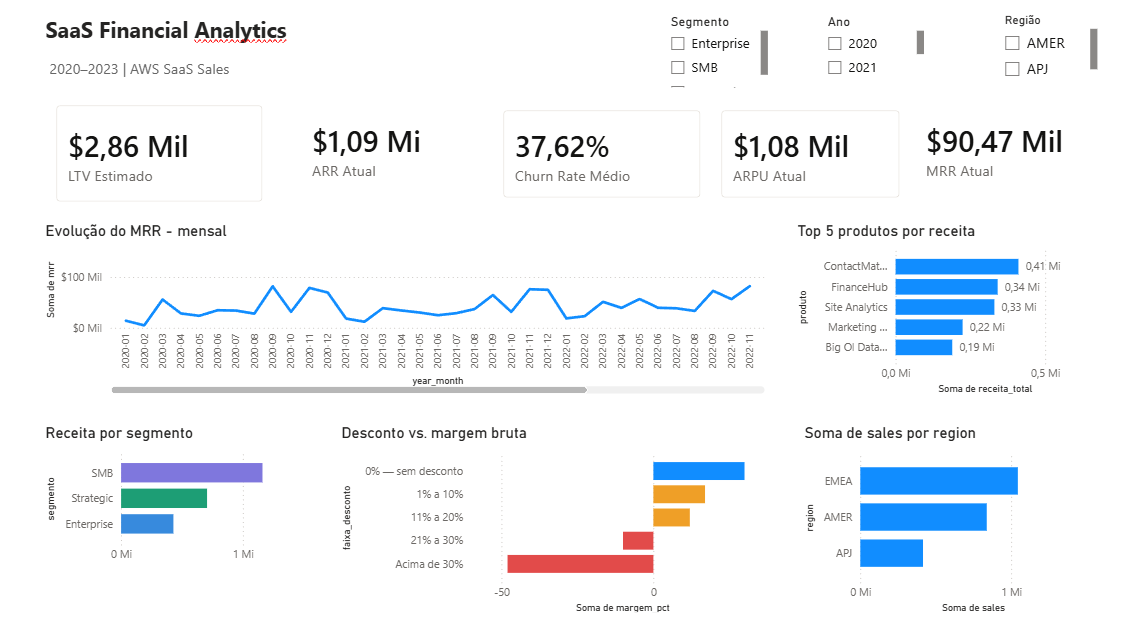

Layout of this report page (visuals, bound fields, positions):
{"tool":"powerbi","page":{"name":"Página 1","canvas":[1280,720],"ordinal":0},"visuals":[{"type":"slicer","fields":{"Values":["mrr_mensal.year_month.Variation.Hierarquia de datas.Ano"]},"box":[907.9,13.1,125.1,81.7],"z":0,"group":"g1"},{"type":"slicer","fields":{"Values":["sql_segmentos.segmento"]},"box":[733.3,13,126.5,91.1],"z":1000,"group":"g1"},{"type":"slicer","fields":{"Values":["vendas.region"]},"box":[1104.6,12.2,121,90.2],"z":2000,"group":"g1"},{"type":"cardVisual","fields":{"Data":["vw_receita_mensal.MRR Atual"]},"box":[1001.3,107.8,224.3,121.1],"z":3000,"group":"g2"},{"type":"lineChart","title":"Evolução do MRR - mensal","fields":{"Category":["mrr_mensal.year_month"],"Y":["Sum(mrr_mensal.mrr)"]},"box":[46.7,248.9,808.9,195.6],"z":3000},{"type":"cardVisual","fields":{"Data":["vw_receita_mensal.ARR Atual"]},"box":[318.9,107.8,224.3,121.1],"z":4000,"group":"g2"},{"type":"clusteredBarChart","title":"Receita por segmento","fields":{"Category":["sql_segmentos.segmento"],"Y":["Sum(sql_segmentos.receita_total)"]},"box":[46.7,473.3,308.9,163.3],"z":4000},{"type":"cardVisual","fields":{"Data":["vw_receita_mensal.ARPU Atual"]},"box":[785.2,107.8,232.5,131.1],"z":5000,"group":"g2"},{"type":"clusteredBarChart","title":"Top 5 produtos por receita","fields":{"Category":["sql_top_produtos.produto"],"Y":["Sum(sql_top_produtos.receita_total)"]},"box":[882.2,248.9,335.6,195.6],"z":5000},{"type":"clusteredBarChart","fields":{"Category":["vendas.region"],"Y":["Sum(vendas.sales)"]},"box":[890,473.3,335.6,214.4],"z":5000},{"type":"cardVisual","fields":{"Data":["vw_receita_mensal.Churn Rate Médio"]},"box":[543.1,107.8,253,131.1],"z":6000,"group":"g2"},{"type":"clusteredBarChart","title":"Desconto vs. margem bruta","fields":{"Category":["sql_descontos.faixa_desconto"],"Y":["Sum(sql_descontos.margem_pct)"]},"box":[375.6,473.3,495.6,214.4],"z":6000},{"type":"group","id":"g1","title":"Grupo 3","box":[733.3,12.2,492.2,91.1],"z":6002},{"type":"textbox","box":[46.7,13.3,365.6,96.7],"z":6003},{"type":"cardVisual","fields":{"Data":["vw_receita_mensal.LTV Estimado"]},"box":[46.7,102.2,264,141.1],"z":7000,"group":"g2"},{"type":"group","id":"g2","title":"Grupo 1","box":[46.7,102.2,1178.9,141.1],"z":7001}]}

Visuals, with their boxes in screenshot pixels (x1, y1, x2, y2), scaled from the page's 1280x720 canvas onto the 1140x642 screenshot:
slicer - mrr_mensal.year_month.Variation.Hierarquia de datas.Ano: [left=809, top=12, right=920, bottom=85]
slicer - sql_segmentos.segmento: [left=653, top=12, right=766, bottom=93]
slicer - vendas.region: [left=984, top=11, right=1092, bottom=91]
cardVisual - vw_receita_mensal.MRR Atual: [left=892, top=96, right=1092, bottom=204]
"Evolução do MRR - mensal" lineChart: [left=42, top=222, right=762, bottom=396]
cardVisual - vw_receita_mensal.ARR Atual: [left=284, top=96, right=484, bottom=204]
"Receita por segmento" clusteredBarChart: [left=42, top=422, right=317, bottom=568]
cardVisual - vw_receita_mensal.ARPU Atual: [left=699, top=96, right=906, bottom=213]
"Top 5 produtos por receita" clusteredBarChart: [left=786, top=222, right=1085, bottom=396]
clusteredBarChart - vendas.region x Sum(vendas.sales): [left=793, top=422, right=1092, bottom=613]
cardVisual - vw_receita_mensal.Churn Rate Médio: [left=484, top=96, right=709, bottom=213]
"Desconto vs. margem bruta" clusteredBarChart: [left=335, top=422, right=776, bottom=613]
"Grupo 3" group: [left=653, top=11, right=1091, bottom=92]
textbox: [left=42, top=12, right=367, bottom=98]
cardVisual - vw_receita_mensal.LTV Estimado: [left=42, top=91, right=277, bottom=217]
"Grupo 1" group: [left=42, top=91, right=1092, bottom=217]
